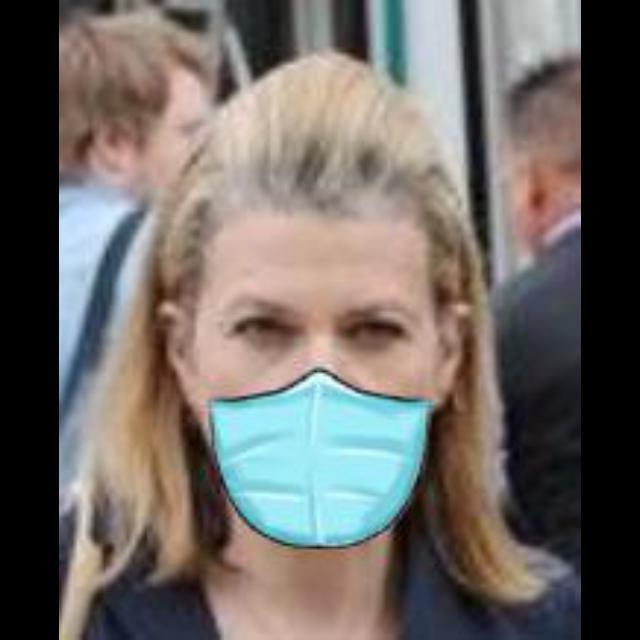suspicion: (125, 109, 483, 575)
